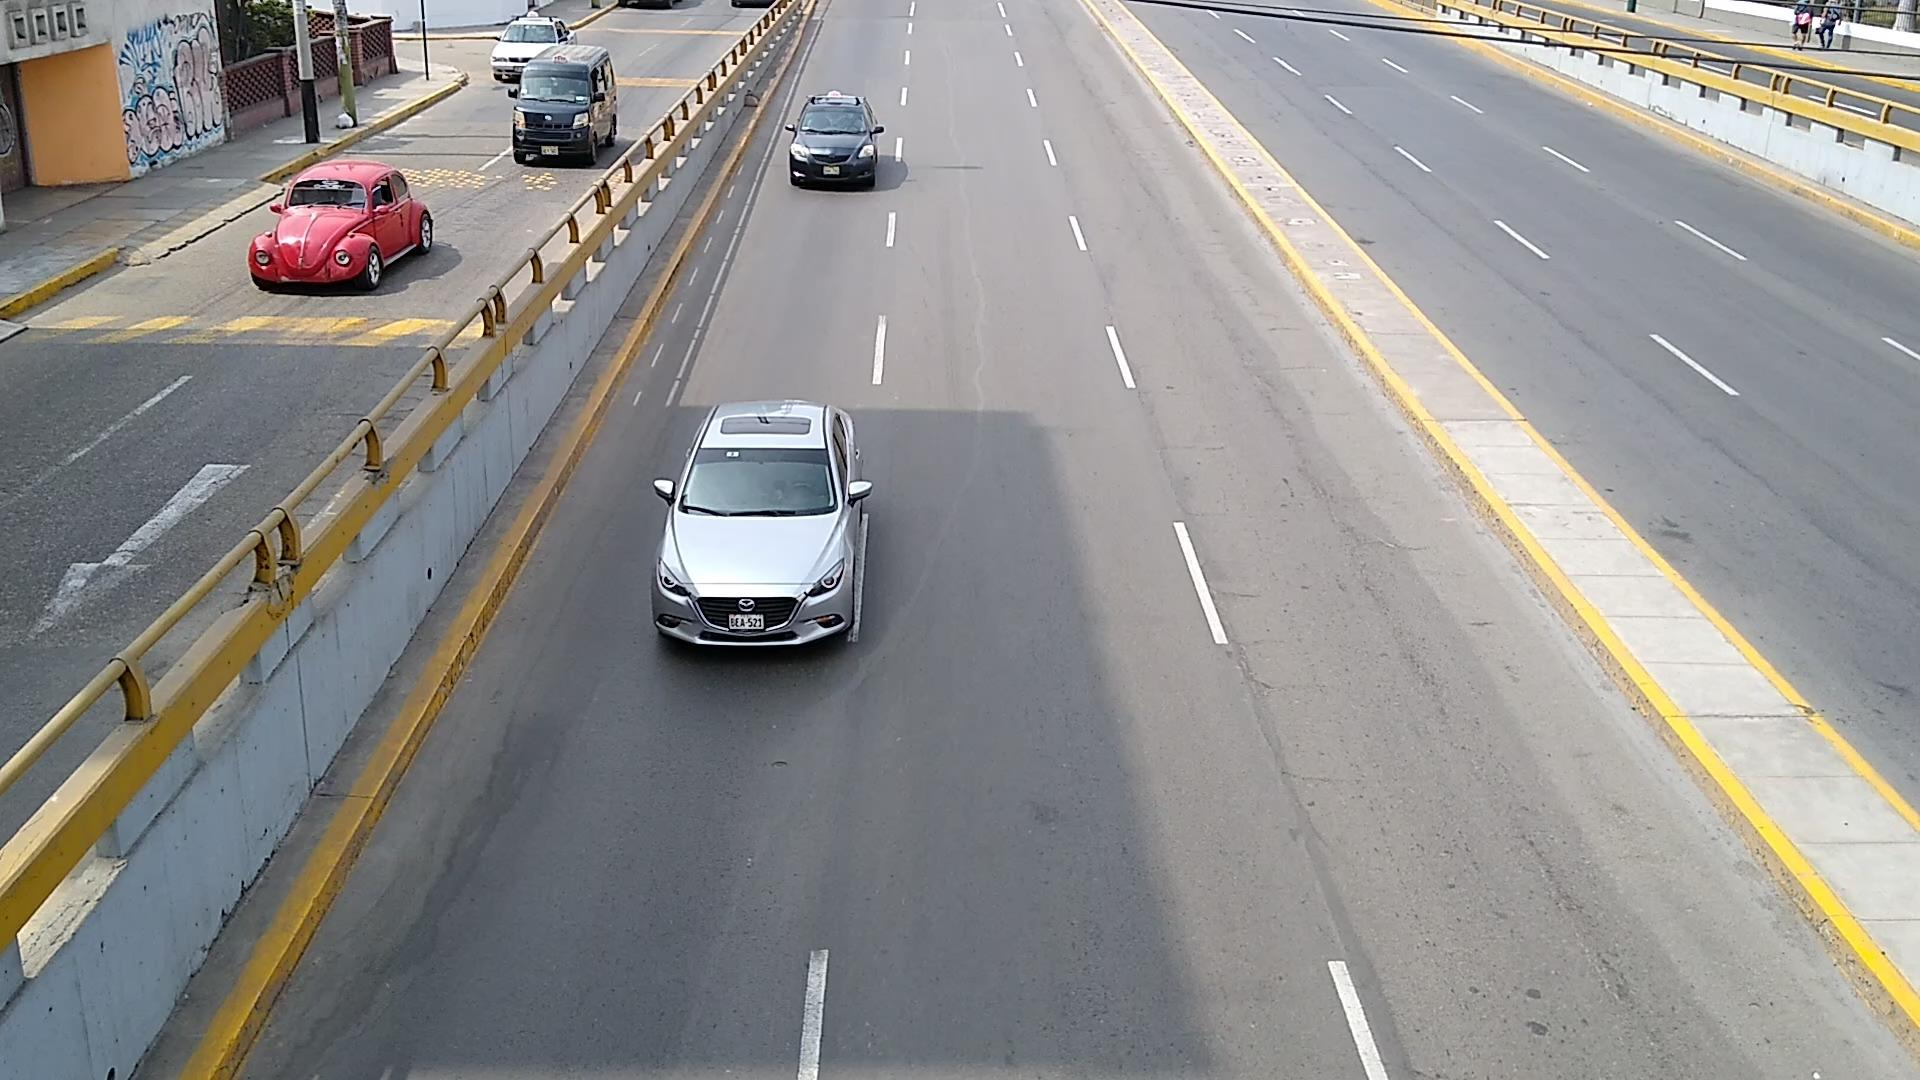car: (653, 397, 870, 645), (248, 161, 435, 289), (787, 90, 885, 186), (502, 22, 559, 45)
minivan: (514, 45, 618, 165)
